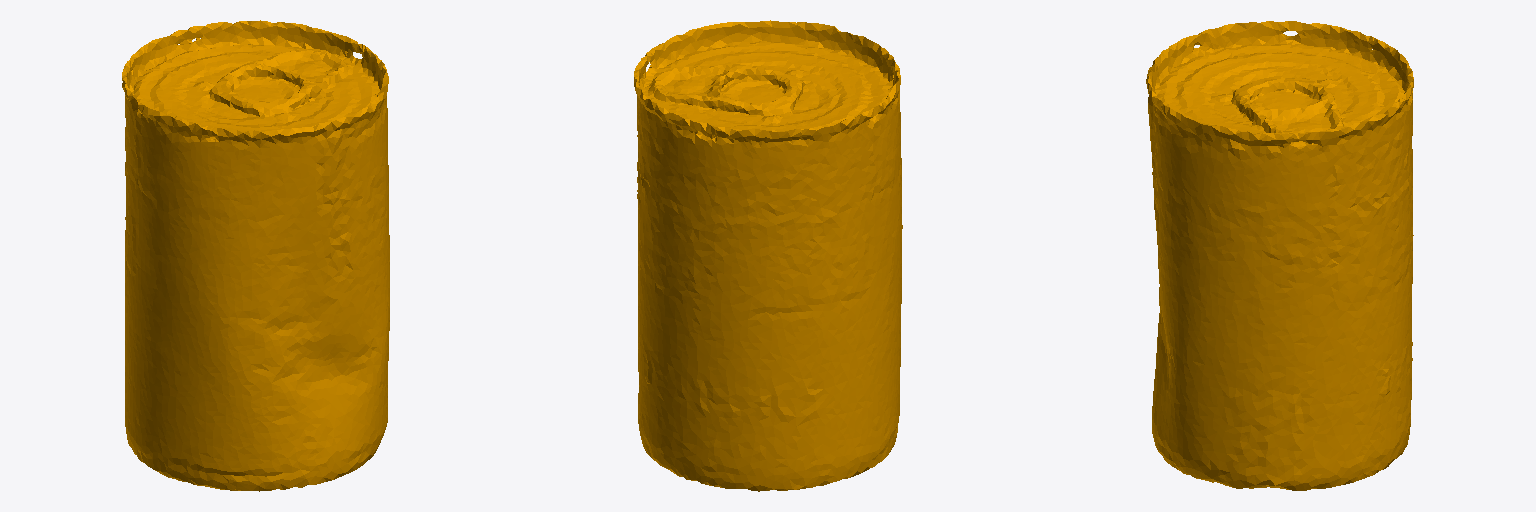
The robot description file, URDF, robot "model.urdf":
<?xml version="0.0" ?>
<robot name="model.urdf">
  <link name="baseLink">
    <contact>
      <lateral_friction value="1.0"/>
      <rolling_friction value="0.0"/>
      <contact_cfm value="0.0"/>
      <contact_erp value="1.0"/>
    </contact>
    <inertial>
       <mass value=".349"/>
       <inertia ixx="1e-3" ixy="0" ixz="0" iyy="1e-3" iyz="0" izz="1e-3"/>
    </inertial>
    <visual>
      <geometry>
        <mesh filename="textured_simple_reoriented.obj" scale="1 1 1"/>
      </geometry>
    </visual>
    <collision>
      <geometry>
    	 	<mesh filename="collision_vhacd.obj" scale="1 1 1"/>
      </geometry>
    </collision>
  </link>
</robot>

--- What the picture shows (computed from the rendered views, not written in the file) ---
3 views of the same robot in one strip: view 1: azimuth 30°, elevation 25°; view 2: azimuth 150°, elevation 25°; view 3: azimuth 270°, elevation 25° (orthographic).
Robot: model.urdf — 1 links, 0 joints (none); root link baseLink; default pose: every joint at zero.
Visible links, largest first — view 1: baseLink; view 2: baseLink; view 3: baseLink.
Boxes of the visible links, x1=… form: baseLink: x1=122, y1=20, x2=389, y2=491; baseLink: x1=634, y1=20, x2=902, y2=491; baseLink: x1=1146, y1=21, x2=1413, y2=490.
Size in the robot's own frame: 0.0679 by 0.0677 by 0.102 metres.
Meshes: 1 distinct files referenced, 1 mesh visuals loaded (1 OBJ).